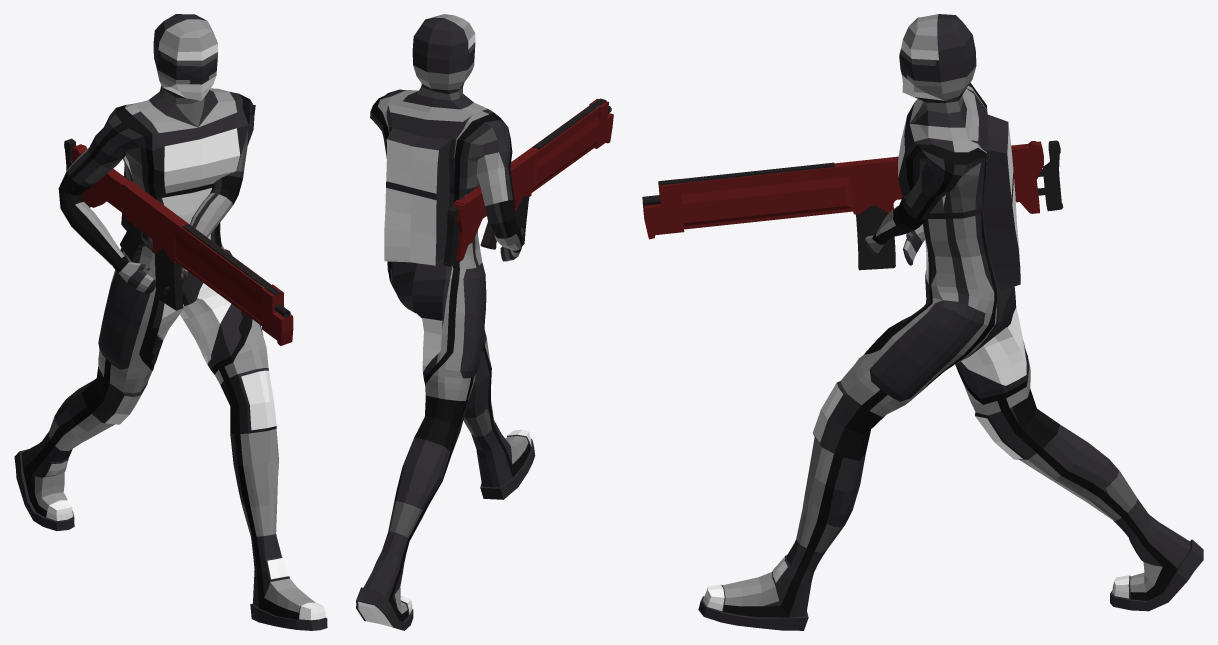
The model's file is SCR7.obj.
3 views of the same model, side by side, from view 1: azimuth 30°, elevation 25°; view 2: azimuth 150°, elevation 25°; view 3: azimuth 270°, elevation 25° (orthographic). The views are drawn at different scales.
Parts seen in each view (by area): view 1: metarig_object_metarig_mesh, Cube.001; view 2: metarig_object_metarig_mesh, Cube.001; view 3: metarig_object_metarig_mesh, Cube.001.
Part boxes in pixels (x1,y1,x2,y2): metarig_object_metarig_mesh: (14,14,327,630); Cube.001: (64,138,293,345); metarig_object_metarig_mesh: (356,14,535,630); Cube.001: (443,98,613,266); metarig_object_metarig_mesh: (698,14,1203,630); Cube.001: (642,140,1063,270).
Bounding box in the file's own units: 0.4656 × 1.45 × 1.22.
2 materials, 2 textured.
